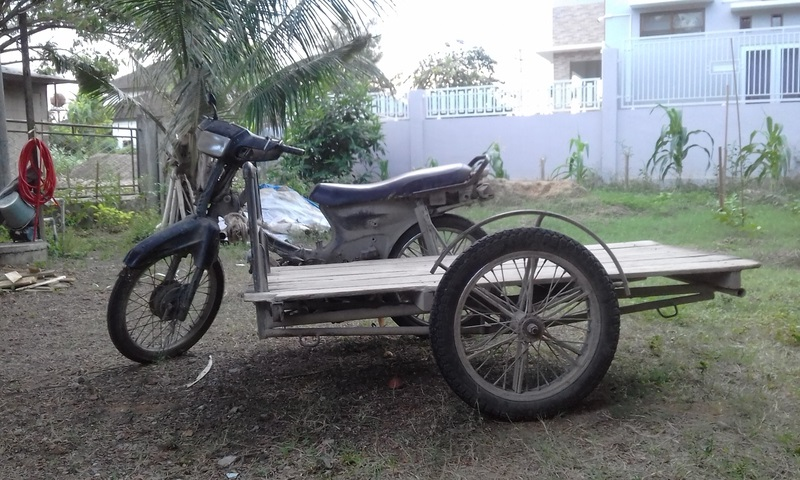becak barang: (101, 85, 765, 426)
